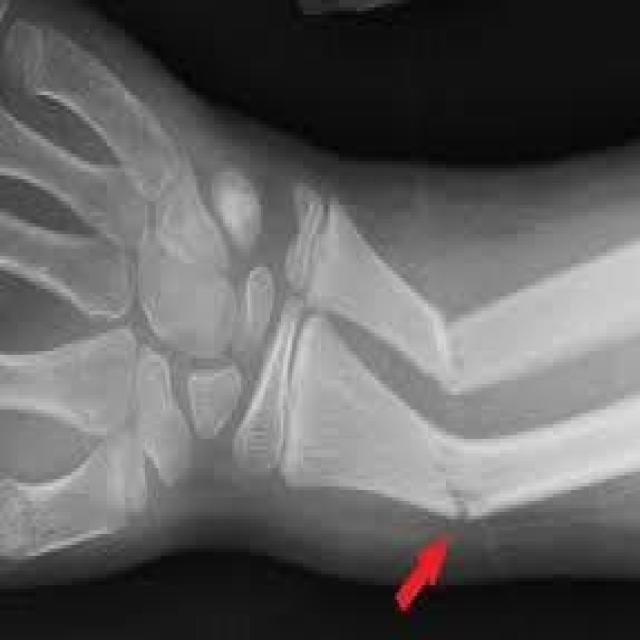bone: (396, 232, 503, 569)
